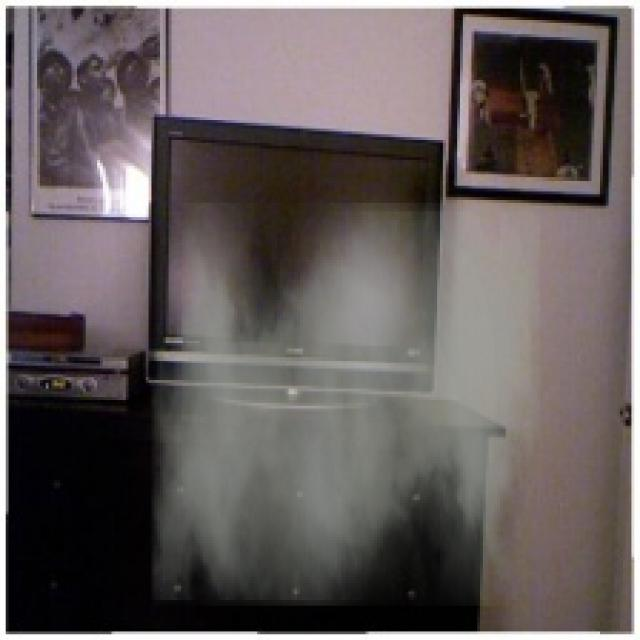smoke: (151, 203, 540, 606)
